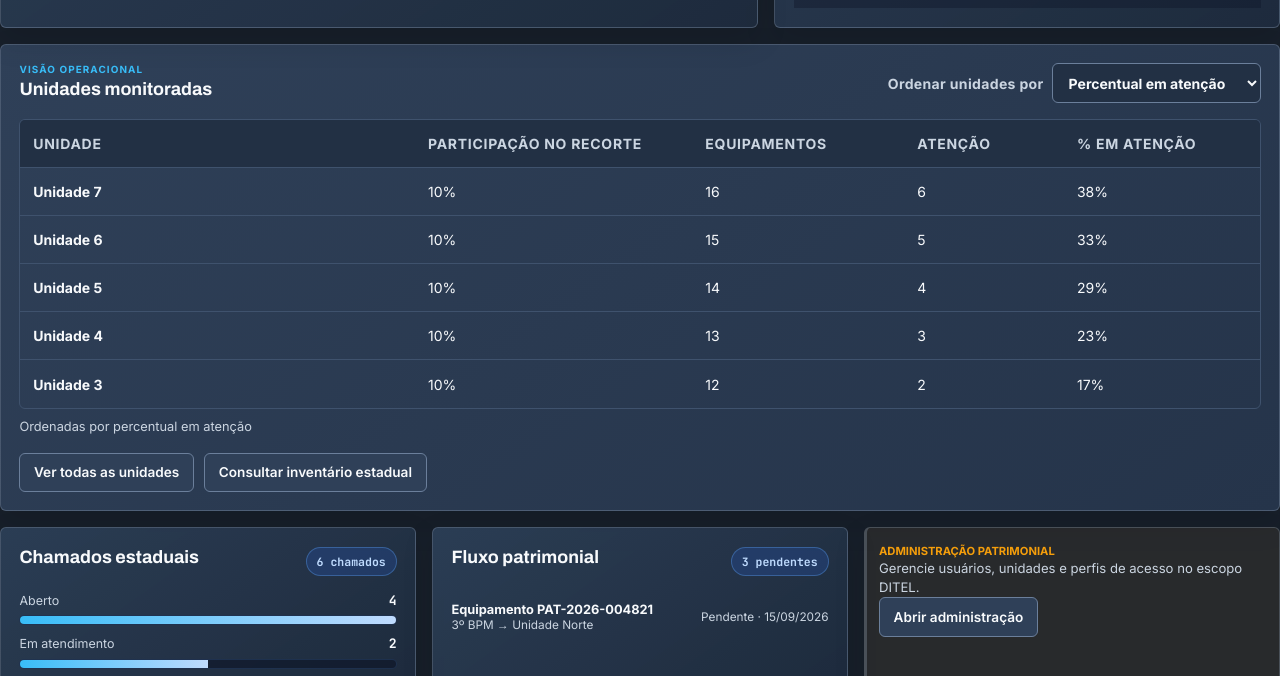
Test: limits unit and attention lists to five items until expanded
This screenshot has width=1280, height=676.
(page scrolled)
Expected: the number of rows is 6, 20,120 -> 1260,168; 20,168 -> 1260,216; 20,216 -> 1260,264; 20,264 -> 1260,312; 20,312 -> 1260,360; 33,376 -> 1104,393
Click the button "Ver todas as unidades" at coordinates (107, 472), box 19,452 -> 194,492
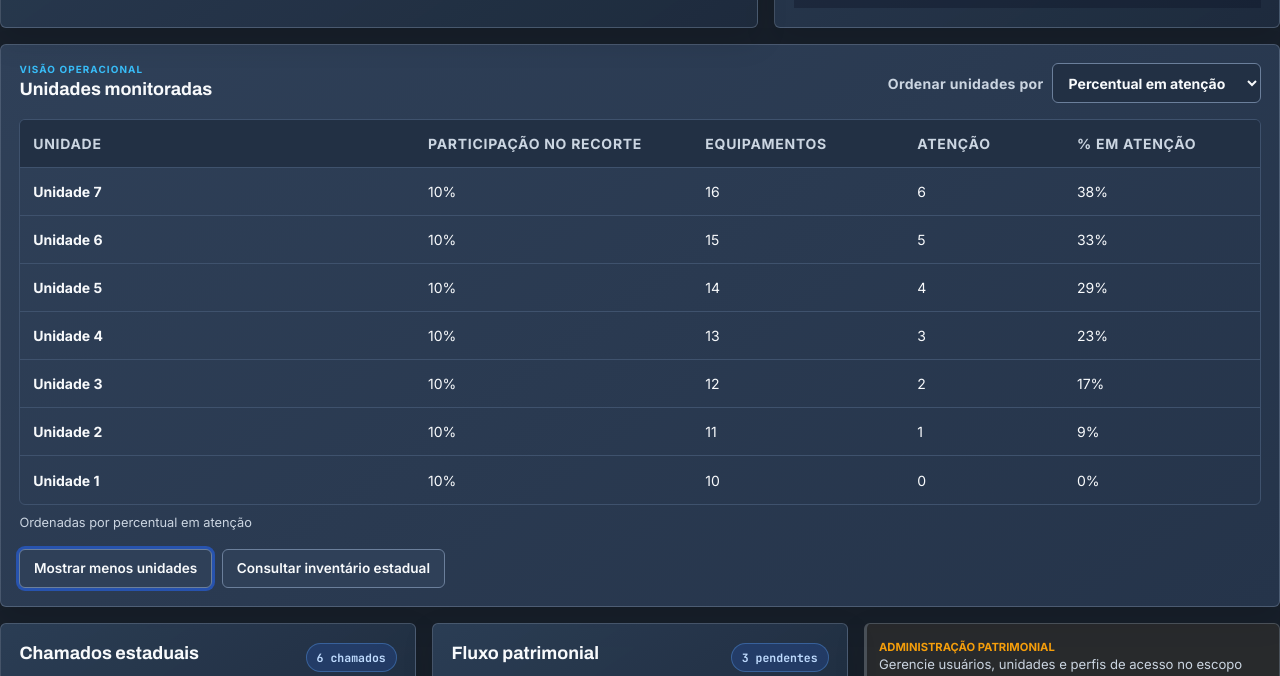
Expected: the text "Unidade 6" is shown, 33,231 -> 102,248
Now the button "Mostrar menos unidades" is shown, box 19,548 -> 212,588
